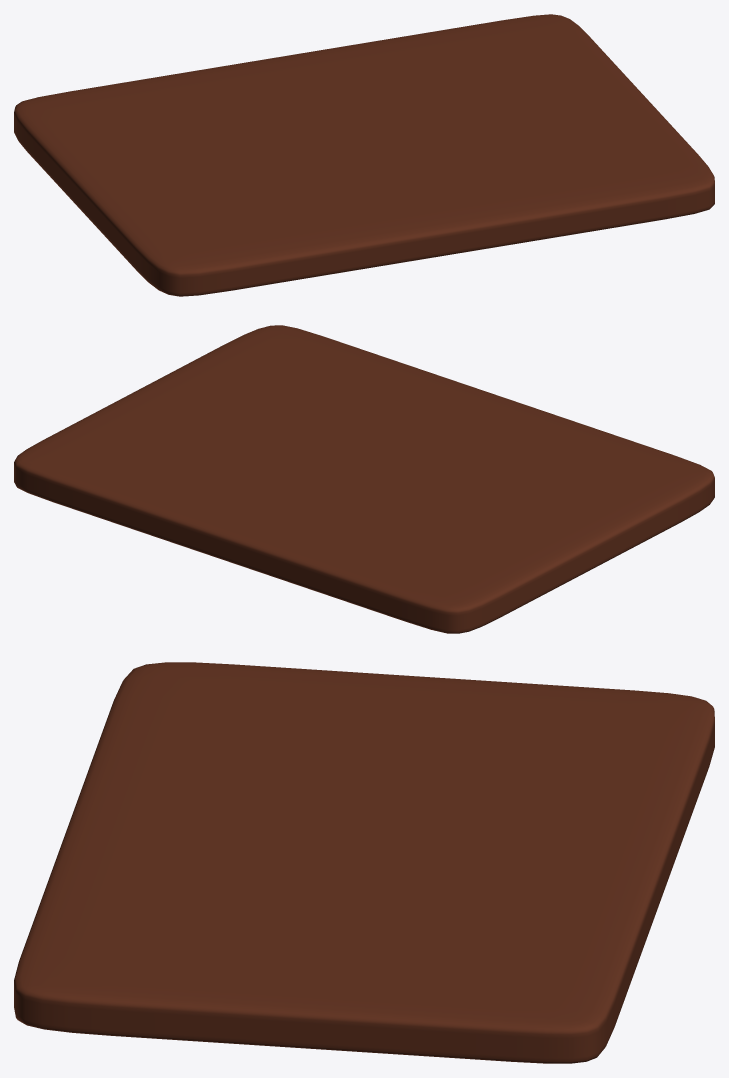
Rendered from Cutting_board.fbx.
3 views of the same model, one above another, from view 1: azimuth 30°, elevation 25°; view 2: azimuth 150°, elevation 25°; view 3: azimuth 270°, elevation 25° (orthographic). The views are drawn at different scales.
Visible parts, largest first — view 1: Cutting_board; view 2: Cutting_board; view 3: Cutting_board.
Part boxes in pixels (bbox=[...]): Cutting_board: bbox=[14, 14, 714, 296]; Cutting_board: bbox=[14, 325, 714, 633]; Cutting_board: bbox=[14, 662, 714, 1063].
Size of the model in its own units: 99.39 by 5.04 by 79.57.
